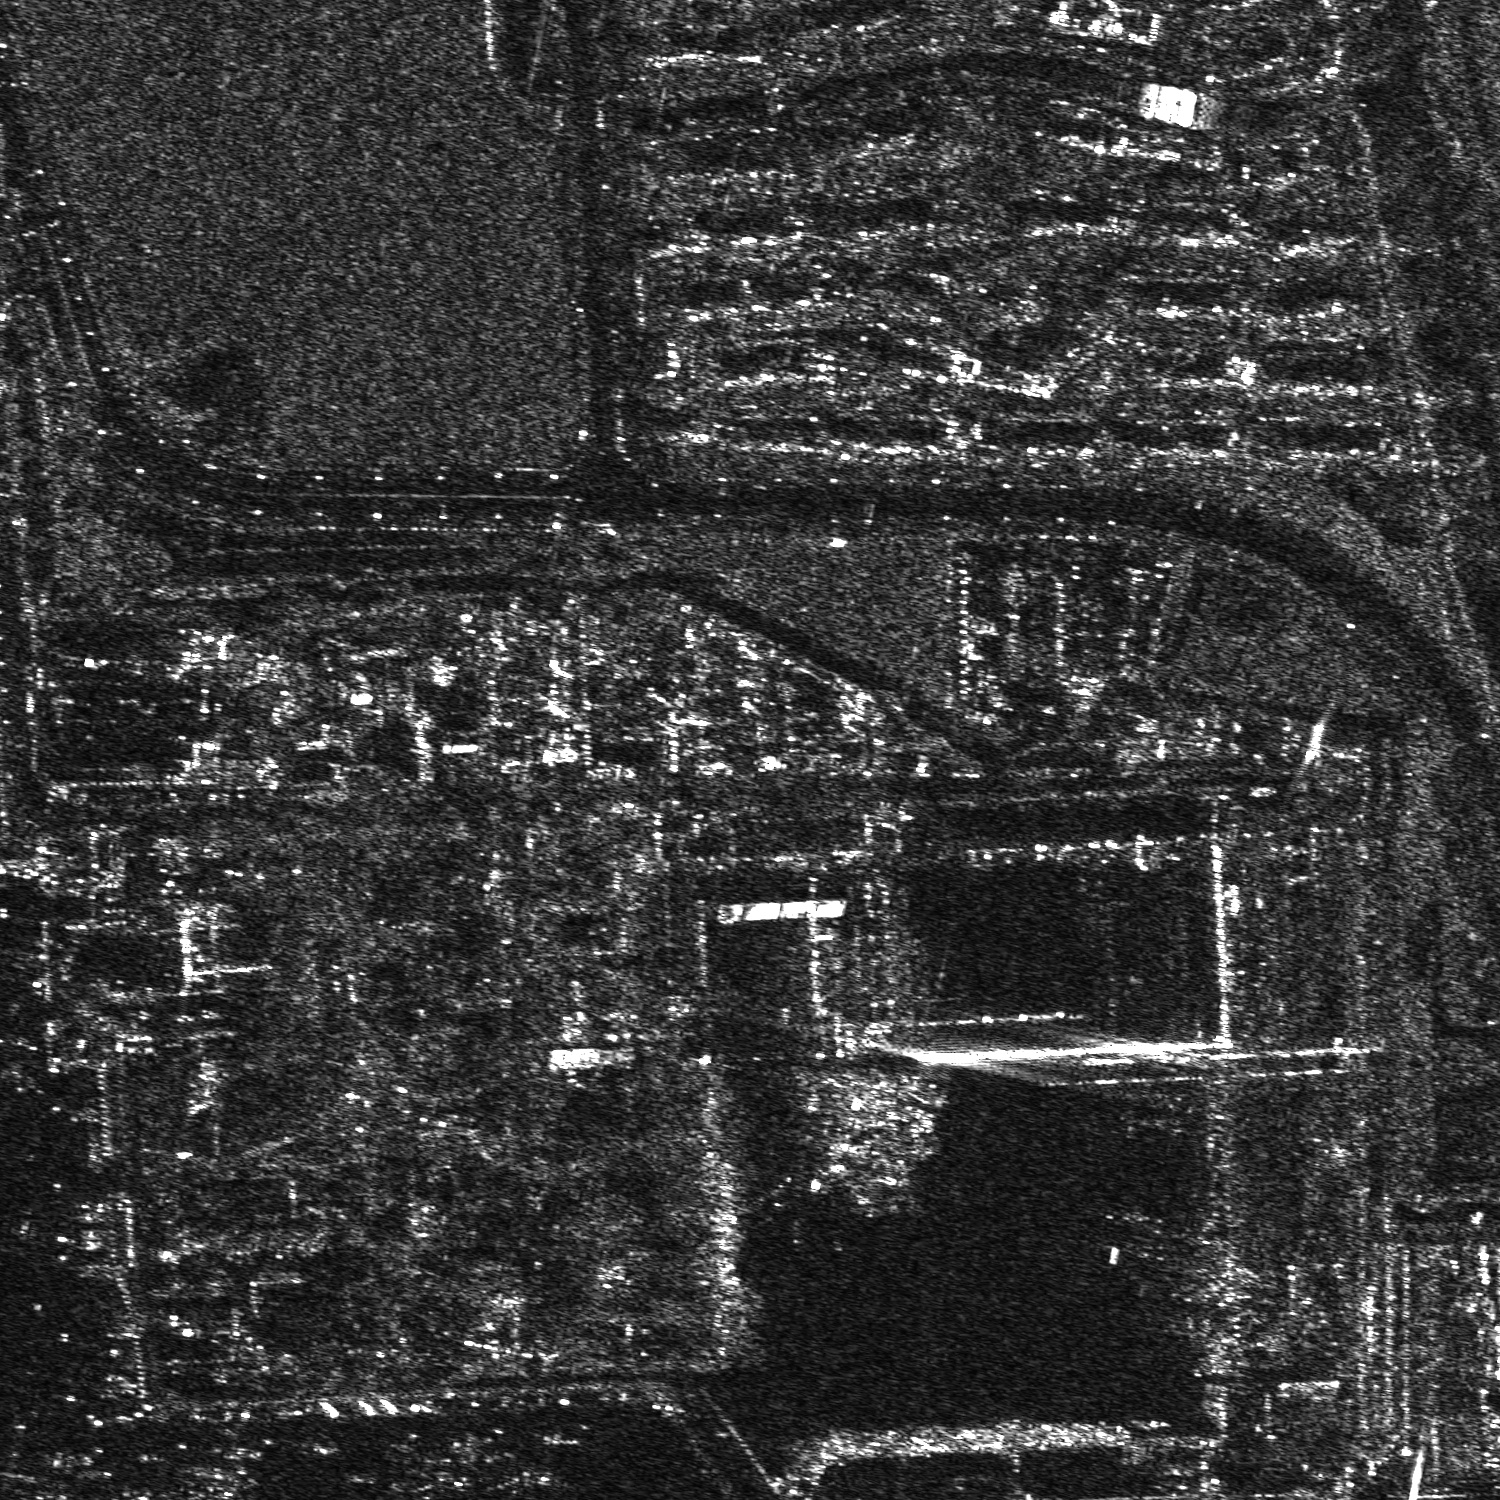A220: (1104, 1198, 1169, 1262)
ARJ21: (409, 1442, 475, 1499)
Boeing737: (489, 1431, 580, 1499)
